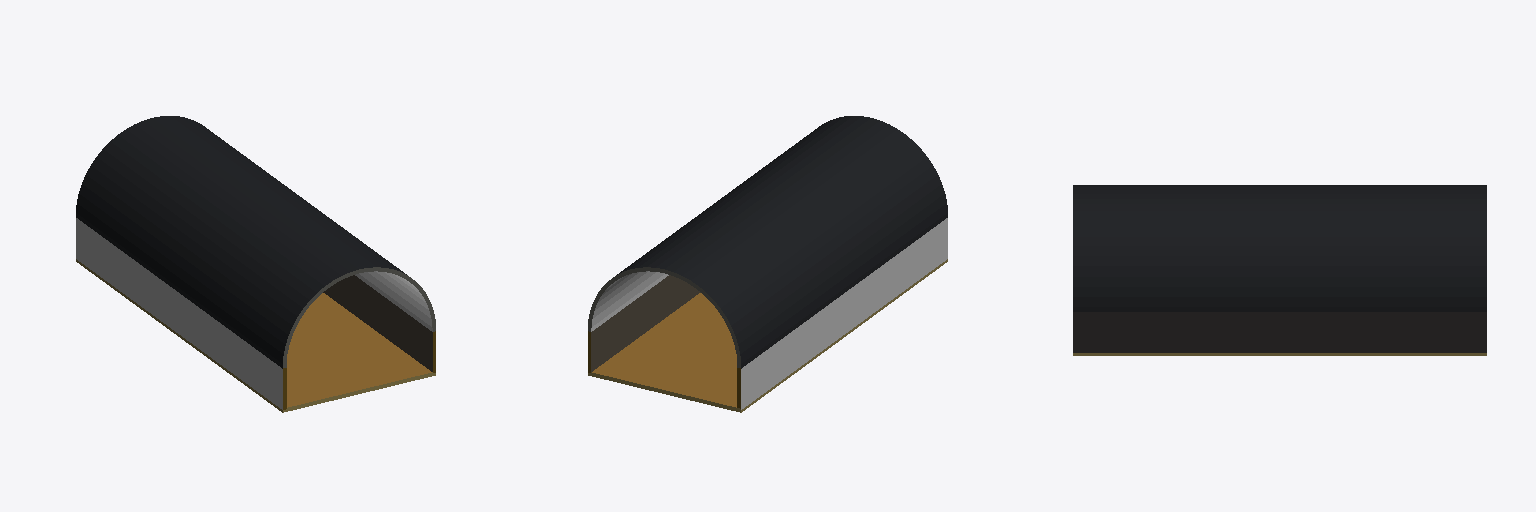
File: Tunnel.obj
The picture shows the model from 3 angles: view 1: azimuth 30°, elevation 25°; view 2: azimuth 150°, elevation 25°; view 3: azimuth 270°, elevation 25°; orthographic projection.
Visible parts, largest first — view 1: 3______011, 2______011, 1______011, 0______011; view 2: 3______011, 2______011, 1______011, 0______011; view 3: 3______011, 0______011, 2______011.
Part boxes in pixels (left/top/right/bottom): 3______011: left=76, top=116, right=435, bottom=368; 2______011: left=76, top=259, right=435, bottom=412; 1______011: left=76, top=218, right=286, bottom=409; 0______011: left=323, top=275, right=435, bottom=372; 3______011: left=588, top=116, right=947, bottom=368; 2______011: left=588, top=259, right=947, bottom=412; 1______011: left=737, top=218, right=947, bottom=409; 0______011: left=588, top=275, right=700, bottom=372; 3______011: left=1073, top=185, right=1486, bottom=311; 0______011: left=1073, top=312, right=1486, bottom=352; 2______011: left=1073, top=353, right=1486, bottom=355.
Size of the model in its own units: 1.2 by 0.931 by 2.8.